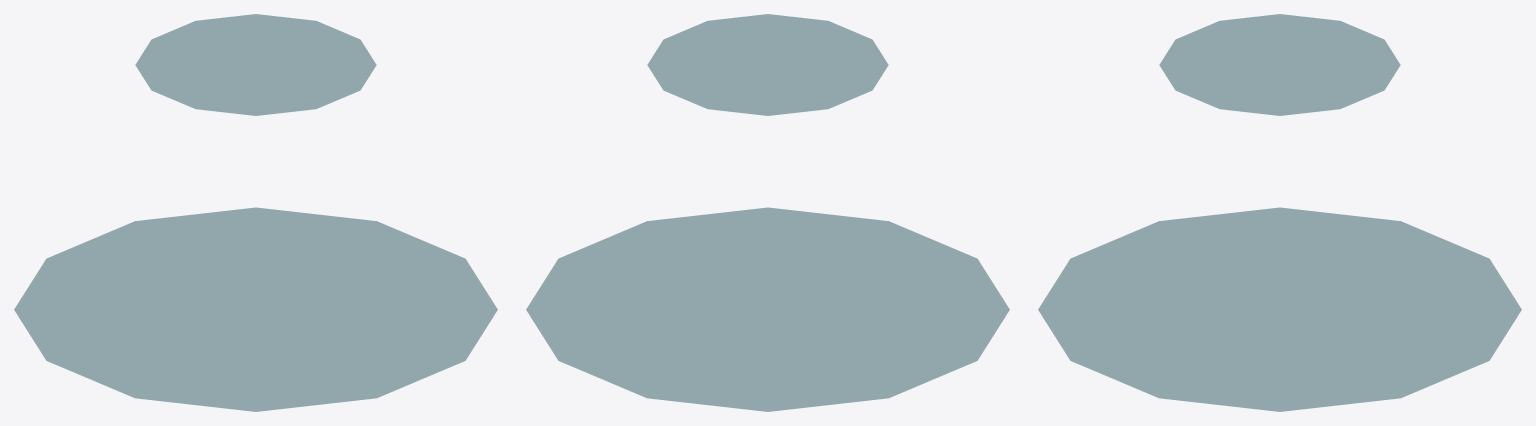
File: SM_Env_Fountain_Statue_Water_01.fbx
3 renders of one model, left to right at view 1: azimuth 30°, elevation 25°; view 2: azimuth 150°, elevation 25°; view 3: azimuth 270°, elevation 25°, orthographic.
Parts seen in each view (by area): view 1: SM_Env_Fountain_Statue_Water_01; view 2: SM_Env_Fountain_Statue_Water_01; view 3: SM_Env_Fountain_Statue_Water_01.
Part boxes in pixels (<box>): SM_Env_Fountain_Statue_Water_01: <box>14,14,497,411</box>; SM_Env_Fountain_Statue_Water_01: <box>526,14,1009,411</box>; SM_Env_Fountain_Statue_Water_01: <box>1038,14,1521,411</box>.
Bounding box in the file's own units: 181 × 101 × 181.
